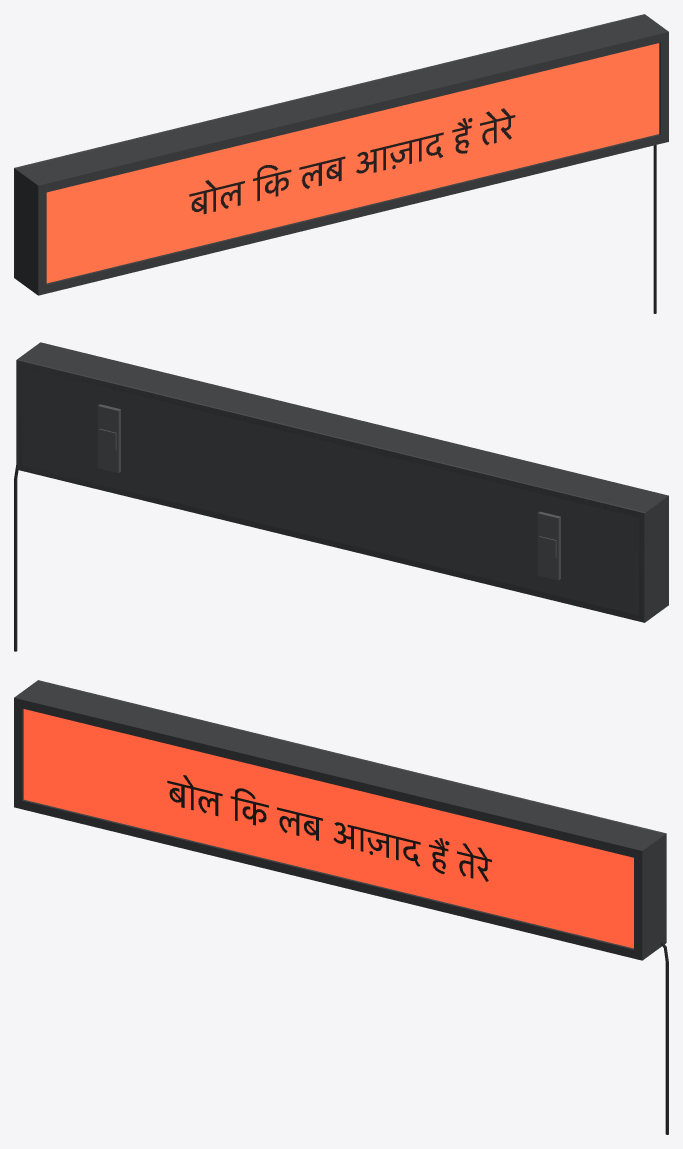
File: custom-lightbox.glb
3 renders of one model, top to bottom at view 1: azimuth 30°, elevation 25°; view 2: azimuth 150°, elevation 25°; view 3: azimuth 330°, elevation 25°, orthographic.
Visible parts, largest first — view 1: Red diffused acrylic face, Metal top bottom return (×2), Front horizontal bezel (×2), Metal end return (×2), Hindi face lettering - bol ki lab azaad hain tere, Front vertical bezel (×2), Rear metal panel, Power lead; view 2: Rear metal panel, Metal top bottom return (×2), Metal end return (×2), Rear mounting tab (×2), Power lead, Front horizontal bezel; view 3: Red diffused acrylic face, Metal top bottom return (×2), Front horizontal bezel (×2), Metal end return (×2), Hindi face lettering - bol ki lab azaad hain tere, Rear metal panel, Front vertical bezel, Power lead.
Boxes of the visible parts, left/top/right/bottom form: Red diffused acrylic face: left=46, top=43, right=659, bottom=283; Metal top bottom return (×2): left=20, top=16, right=663, bottom=294; Front horizontal bezel (×2): left=46, top=33, right=660, bottom=291; Metal end return (×2): left=14, top=14, right=668, bottom=295; Hindi face lettering - bol ki lab azaad hain tere: left=189, top=108, right=515, bottom=214; Front vertical bezel (×2): left=37, top=31, right=668, bottom=294; Rear metal panel: left=14, top=14, right=645, bottom=278; Power lead: left=653, top=145, right=656, bottom=313; Rear metal panel: left=16, top=359, right=645, bottom=622; Metal top bottom return (×2): left=22, top=343, right=662, bottom=621; Metal end return (×2): left=16, top=342, right=668, bottom=622; Rear mounting tab (×2): left=97, top=404, right=560, bottom=580; Power lead: left=14, top=465, right=18, bottom=651; Front horizontal bezel: left=48, top=344, right=660, bottom=493; Red diffused acrylic face: left=23, top=709, right=633, bottom=948; Metal top bottom return (×2): left=19, top=681, right=659, bottom=959; Front horizontal bezel (×2): left=22, top=699, right=634, bottom=952; Metal end return (×2): left=14, top=680, right=666, bottom=960; Hindi face lettering - bol ki lab azaad hain tere: left=167, top=775, right=491, bottom=881; Rear metal panel: left=37, top=680, right=666, bottom=942; Front vertical bezel: left=14, top=697, right=23, bottom=808; Power lead: left=661, top=941, right=668, bottom=1134.
Bounding box in the file's own units: 0.91 × 0.405 × 0.068.
